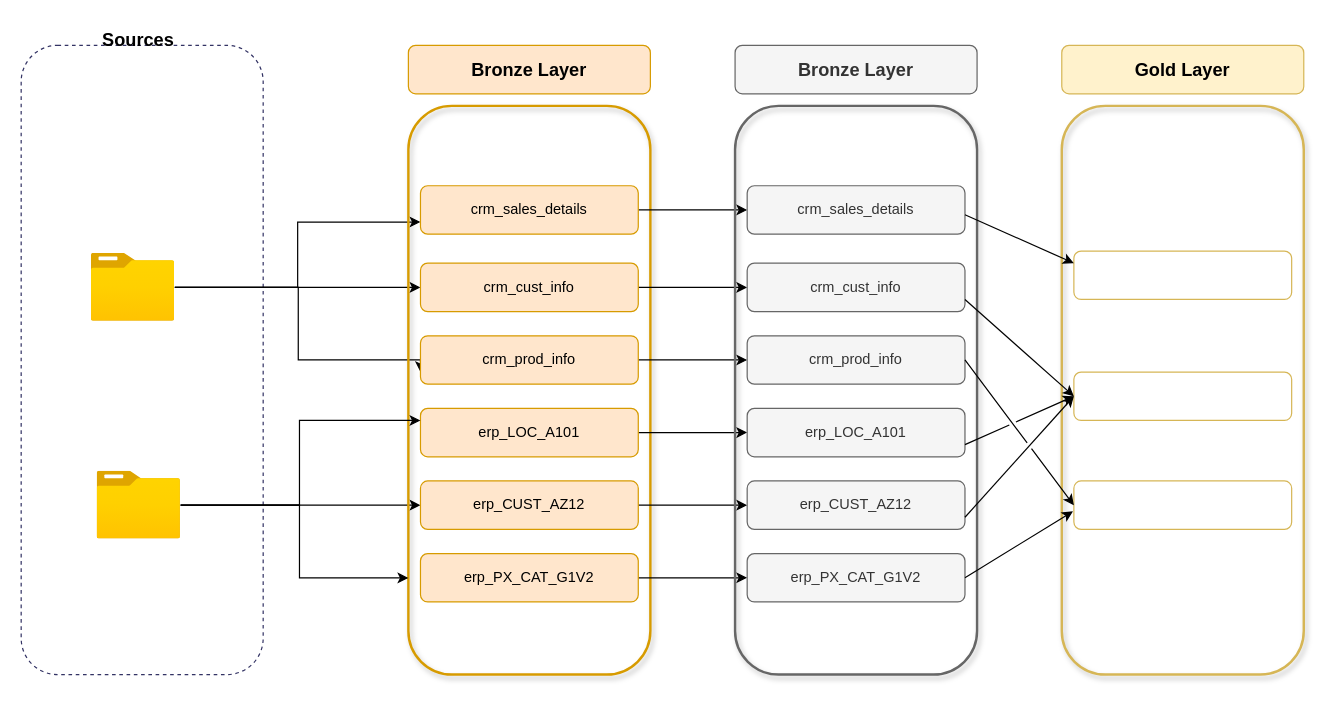
This 1333x704 diagram has some shape labels left out. The shapes that lost their labels are listed below. From the top down, each one's centre as x and y in pixels, then its label:
At (x=1182, y=274): "fact_sales".
At (x=124, y=329): "CRM".
At (x=1182, y=395): "dim_customers".
At (x=1182, y=504): "dim_products".
At (x=118, y=550): "ERP".
